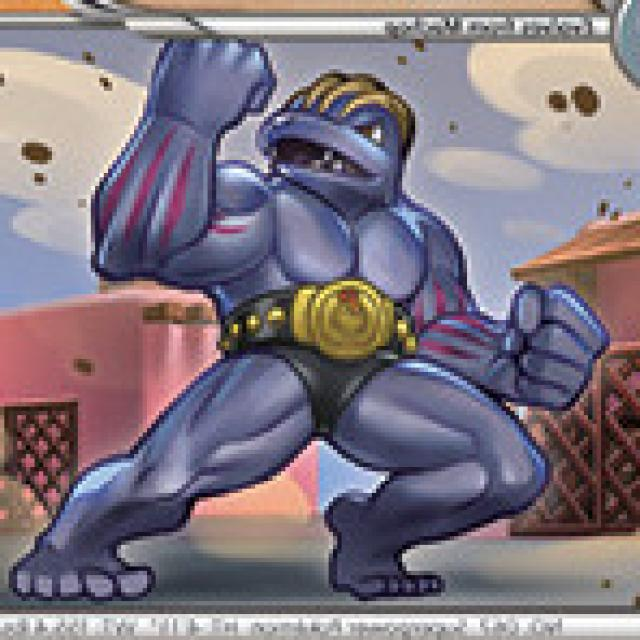Machoke: (78, 71, 500, 591)
